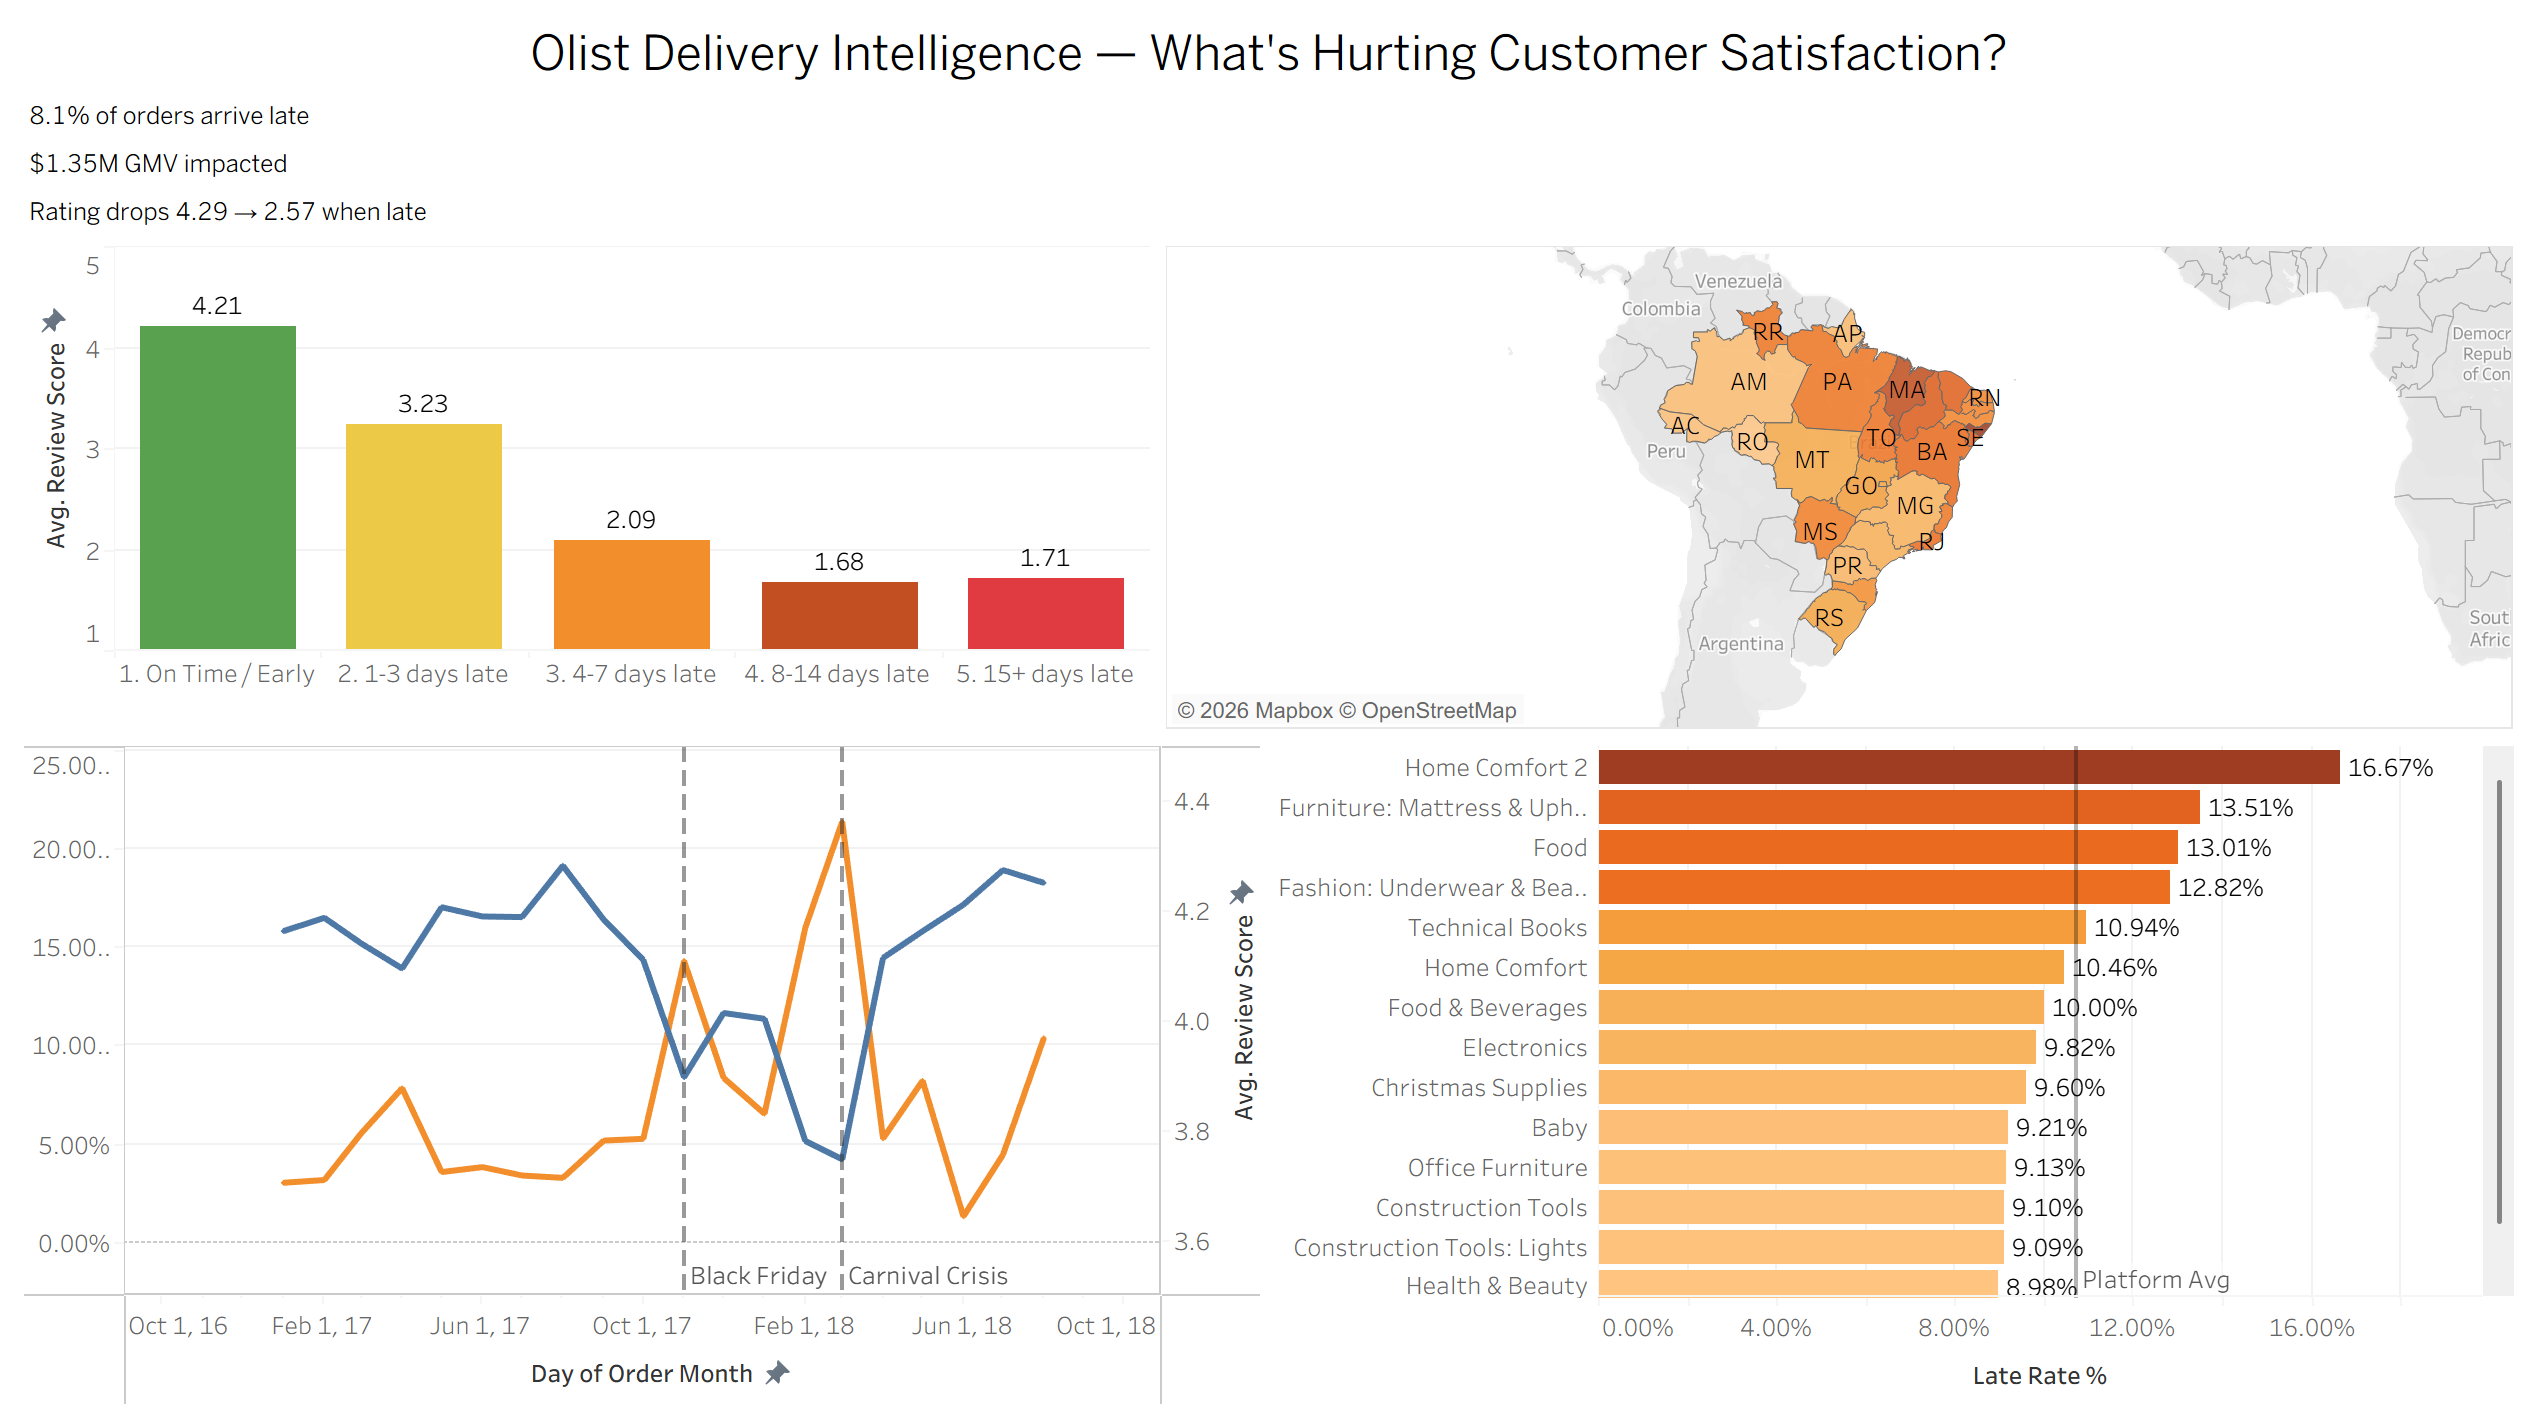

Layout of this report page (visuals, bound fields, positions):
{"tool":"tableau","page":{"name":"Dashboard 1","canvas":[1000,1000],"units":"permille","ordinal":0},"visuals":[{"type":"title","box":[6.3,11.2,987.4,54.5]},{"type":"text","box":[6.3,65.6,987.4,33.5]},{"type":"text","box":[6.3,99.2,987.4,33.5]},{"type":"text","box":[6.3,132.7,987.4,33.5]},{"type":"worksheet","title":"Satisfaction Cliff","mark":"Bar","rows":["review_score"],"cols":["delay_bucket"],"box":[6.3,167.6,450,349.1]},{"type":"worksheet","title":"Brazil Map","mark":"Multipolygon","box":[456.3,167.6,537.4,349.1]},{"type":"worksheet","title":"Monthly Trend","mark":"Automatic","rows":["Calculation_1214417886736384","review_score"],"cols":["order_month"],"box":[6.3,516.7,493.7,472.1]},{"type":"worksheet","title":"Category Risk","mark":"Bar","rows":["category"],"cols":["Calculation_1214417886736384"],"box":[500,516.7,493.7,472.1]}]}

Visuals, with their boxes on the dashboard's canvas, which has no fixed pixel size, in thousandths of its width and height (x1, y1, x2, y2). These are canvas units, not pixel positions in the 2532x1426 screenshot, which may show the page scaled, cropped or inside an application window:
title: detection(6, 11, 994, 66)
text: detection(6, 66, 994, 99)
text: detection(6, 99, 994, 133)
text: detection(6, 133, 994, 166)
"Satisfaction Cliff" worksheet (Bar marks): detection(6, 168, 456, 517)
"Brazil Map" worksheet (Multipolygon marks): detection(456, 168, 994, 517)
"Monthly Trend" worksheet: detection(6, 517, 500, 989)
"Category Risk" worksheet (Bar marks): detection(500, 517, 994, 989)
